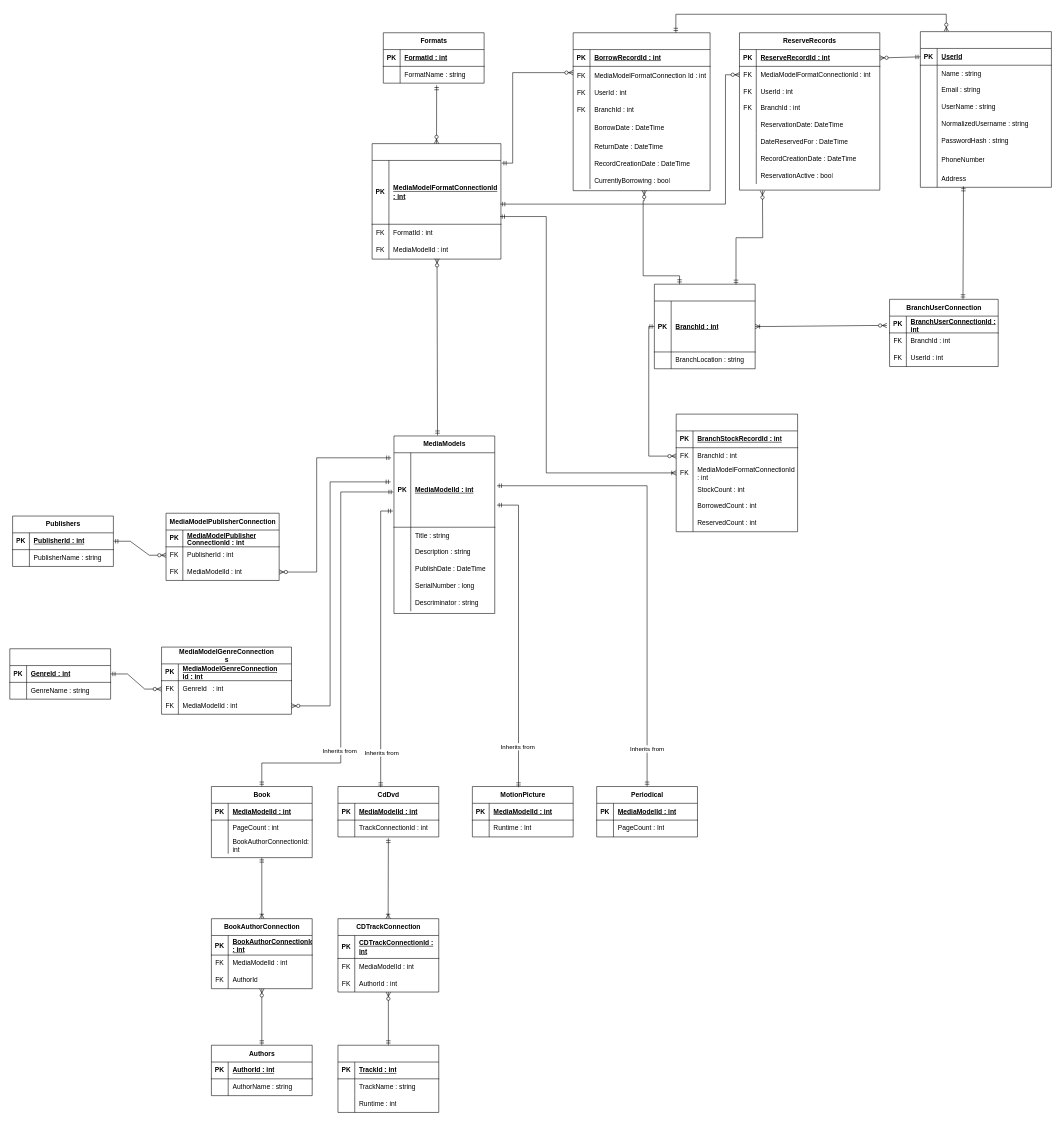
Some shapes in this 1061 by 1122 pixel diagram are drawn without their labels. The shapes that lost their labels are listed below. From the top down, each one's box as (x1, y1, x2, y2) in pixels, then its label:
(573, 32, 710, 191): BorrowRecords
(920, 31, 1051, 187): User<IdentityUser>
(372, 143, 501, 259): MediaModelFormatConnection s
(654, 284, 755, 369): Branches
(676, 414, 798, 532): BranchStockRecords
(9, 648, 111, 699): Genres
(337, 1045, 439, 1112): CdTrack
